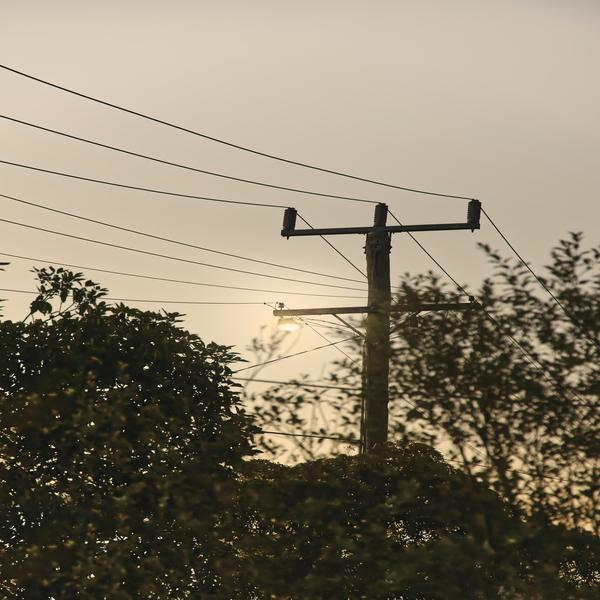utility_pole: (261, 181, 495, 348)
